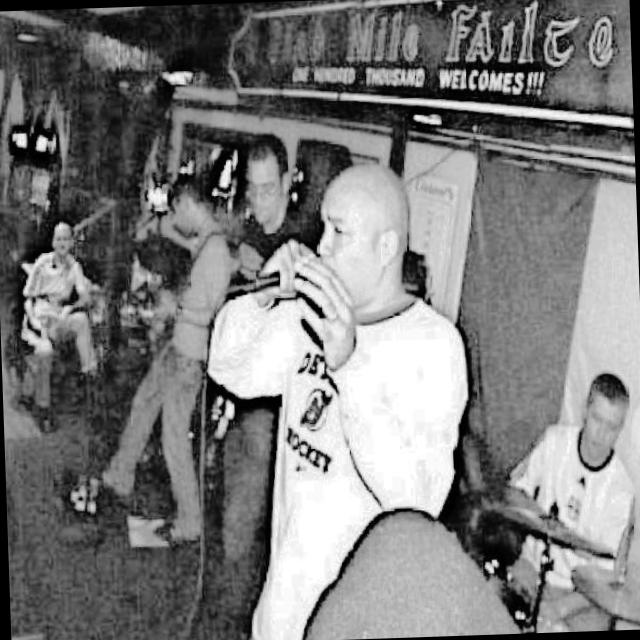Person: (200, 157, 479, 640), (82, 167, 240, 556), (503, 356, 640, 634), (227, 125, 320, 292), (20, 222, 22, 249)
